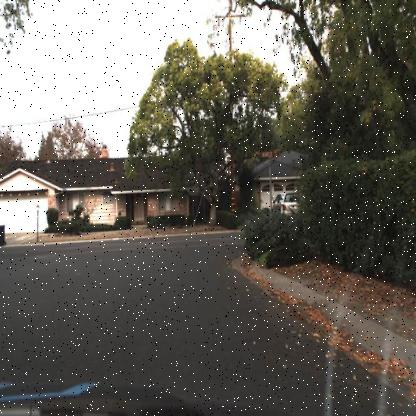car: (270, 191, 302, 222)
